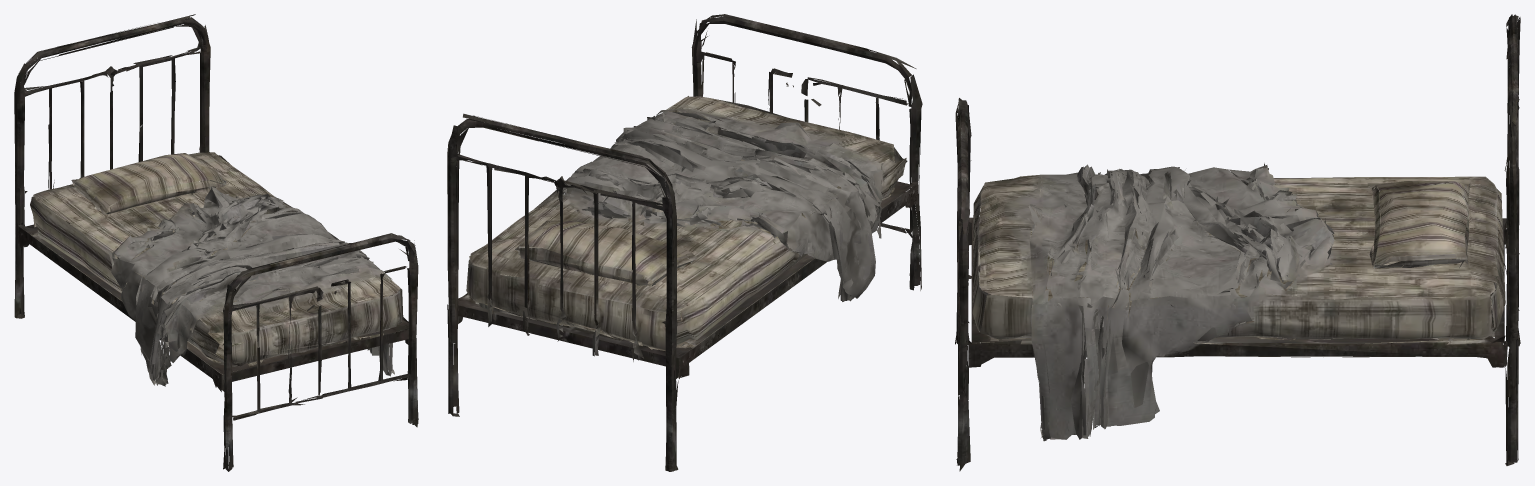
Rendered from bed.glb.
3 views of the same model, side by side, from view 1: azimuth 30°, elevation 25°; view 2: azimuth 150°, elevation 25°; view 3: azimuth 270°, elevation 25° (orthographic). The views are drawn at different scales.
Parts seen in each view (by area): view 1: Mesh_0; view 2: Mesh_0; view 3: Mesh_0.
Boxes of the visible parts, x1=… form: Mesh_0: x1=14, y1=14, x2=418, y2=471; Mesh_0: x1=447, y1=14, x2=922, y2=471; Mesh_0: x1=955, y1=14, x2=1520, y2=471.
Size of the model in its own units: 1.18 by 1.29 by 1.91.
1 material, 1 textured.
